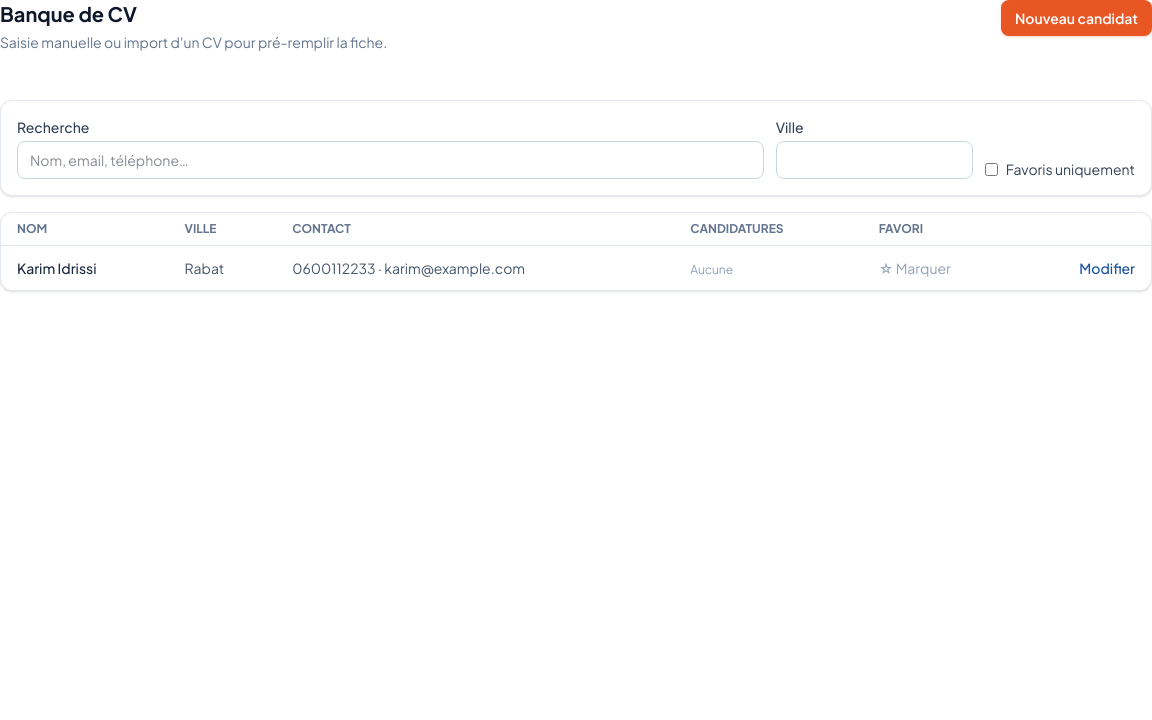
Test: CandidatesPage › shows existing attachments when editing a candidate
The image size is (1152, 720).
Click the button "Modifier": [1107, 268] box [1079,258,1135,278]
(page scrolled)
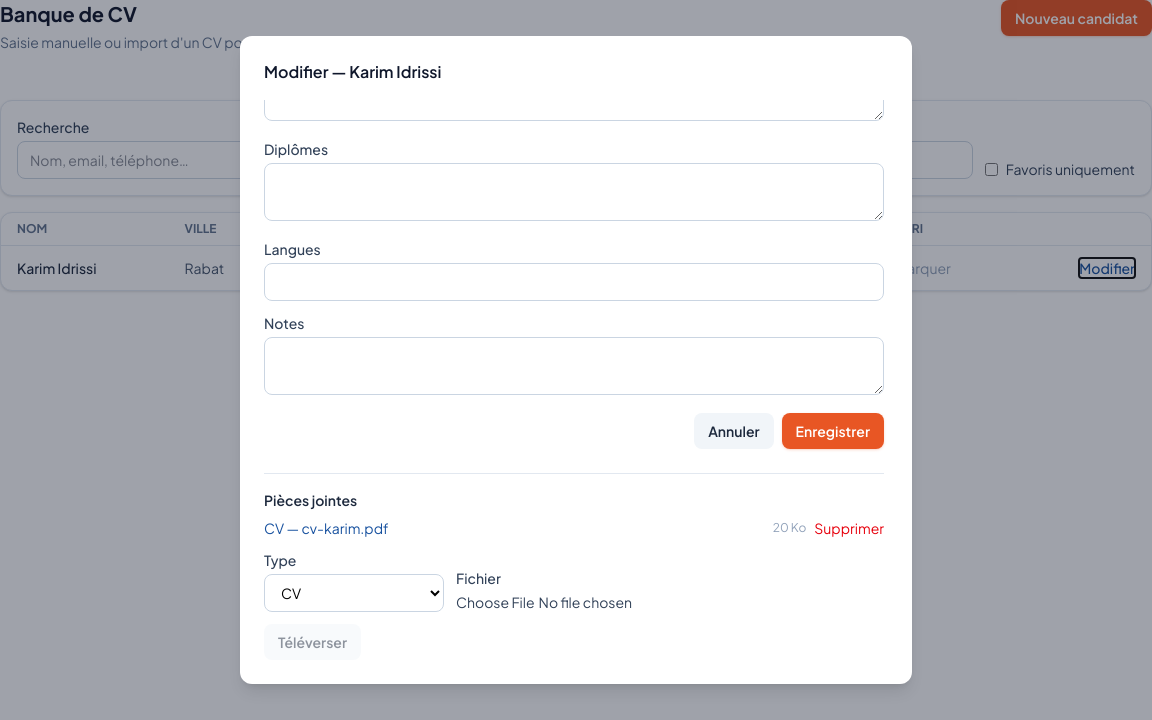
Now the link "CV — cv-karim.pdf" is shown, box [264,518,388,538]
